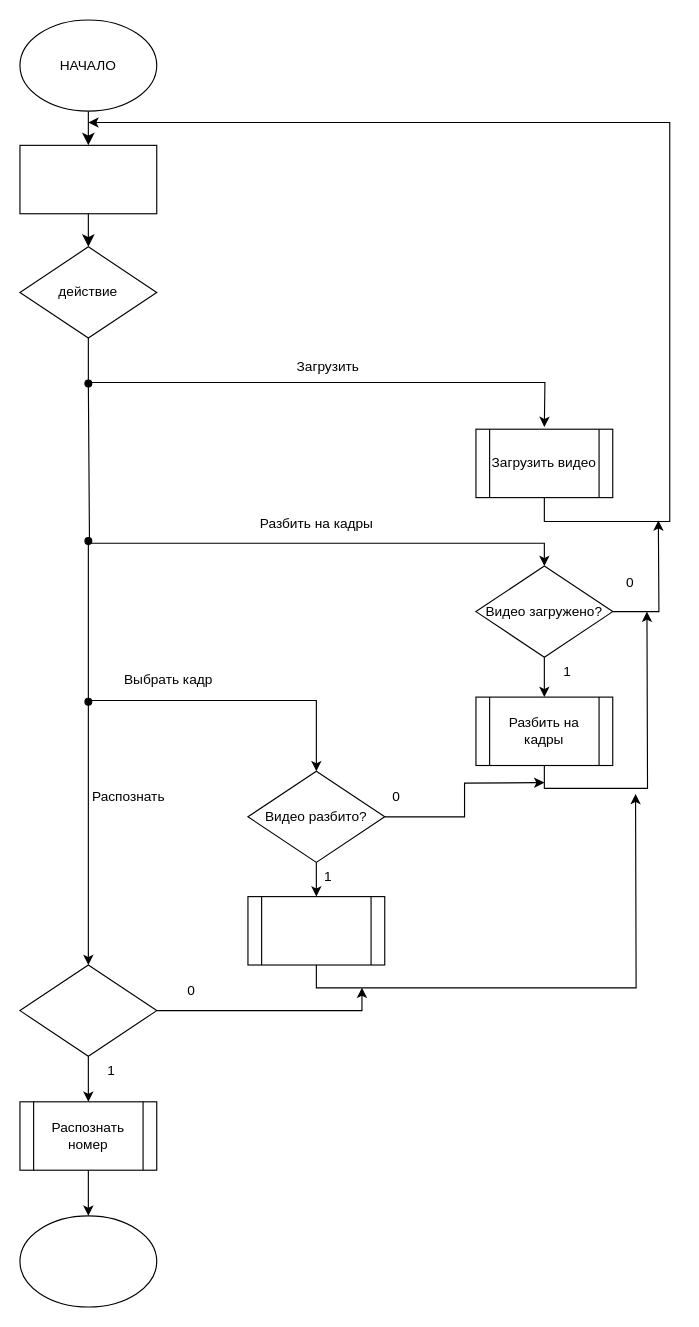
The diagram is 699 pixels wide and 1327 high, and some of its shapes have lost their labels. Each missing label, with the centre of its shape:
"Загрузить кадр" belongs at point 316,930.
"Инициализация" belongs at point 88,179.
"Кадр загружен?" belongs at point 88,1010.
"КОНЕЦ" belongs at point 88,1261.
